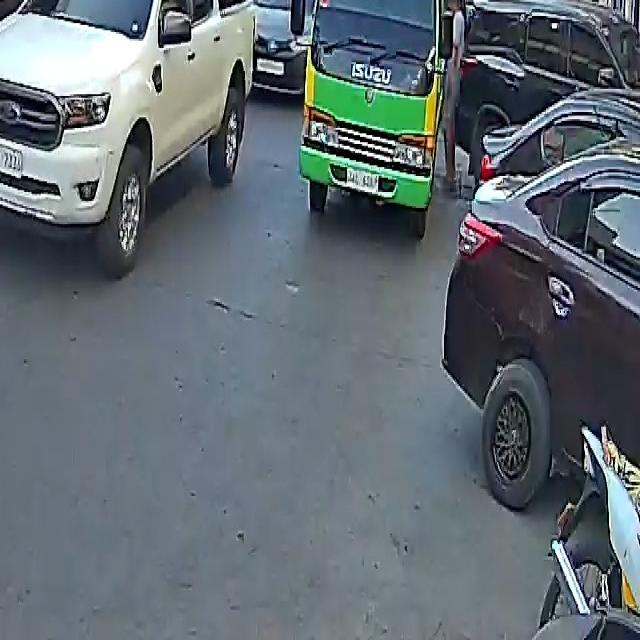car: (443, 82, 640, 524), (0, 0, 262, 274), (452, 0, 639, 192), (245, 0, 323, 92)
